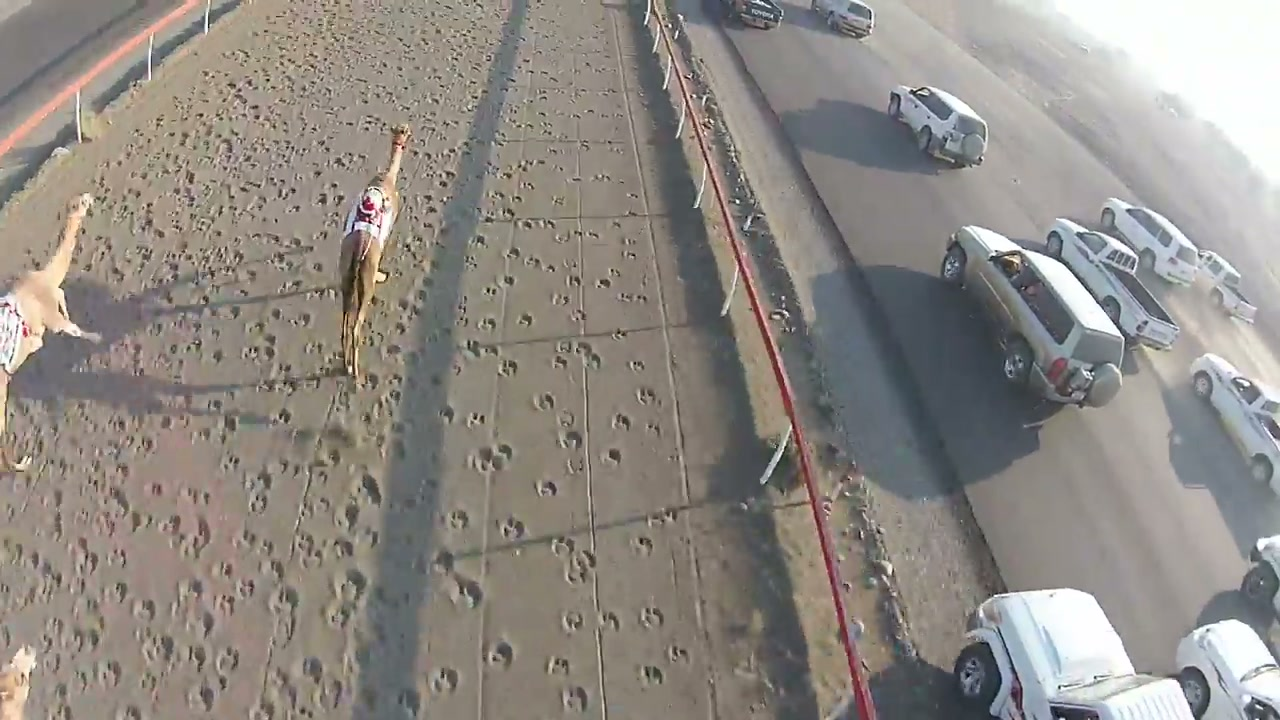animal_foot_print: (0, 0, 763, 719)
